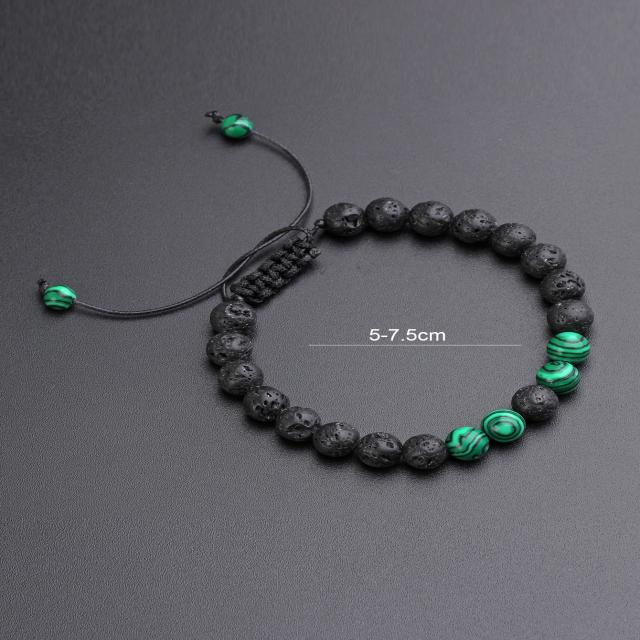bracelet: (5, 65, 640, 482)
